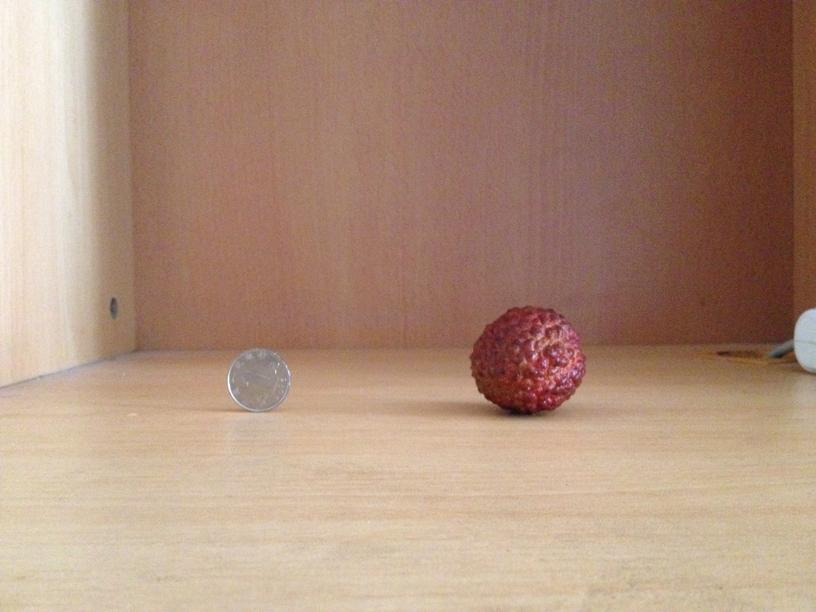coin: (226, 349, 291, 411)
litchi: (473, 307, 584, 410)
